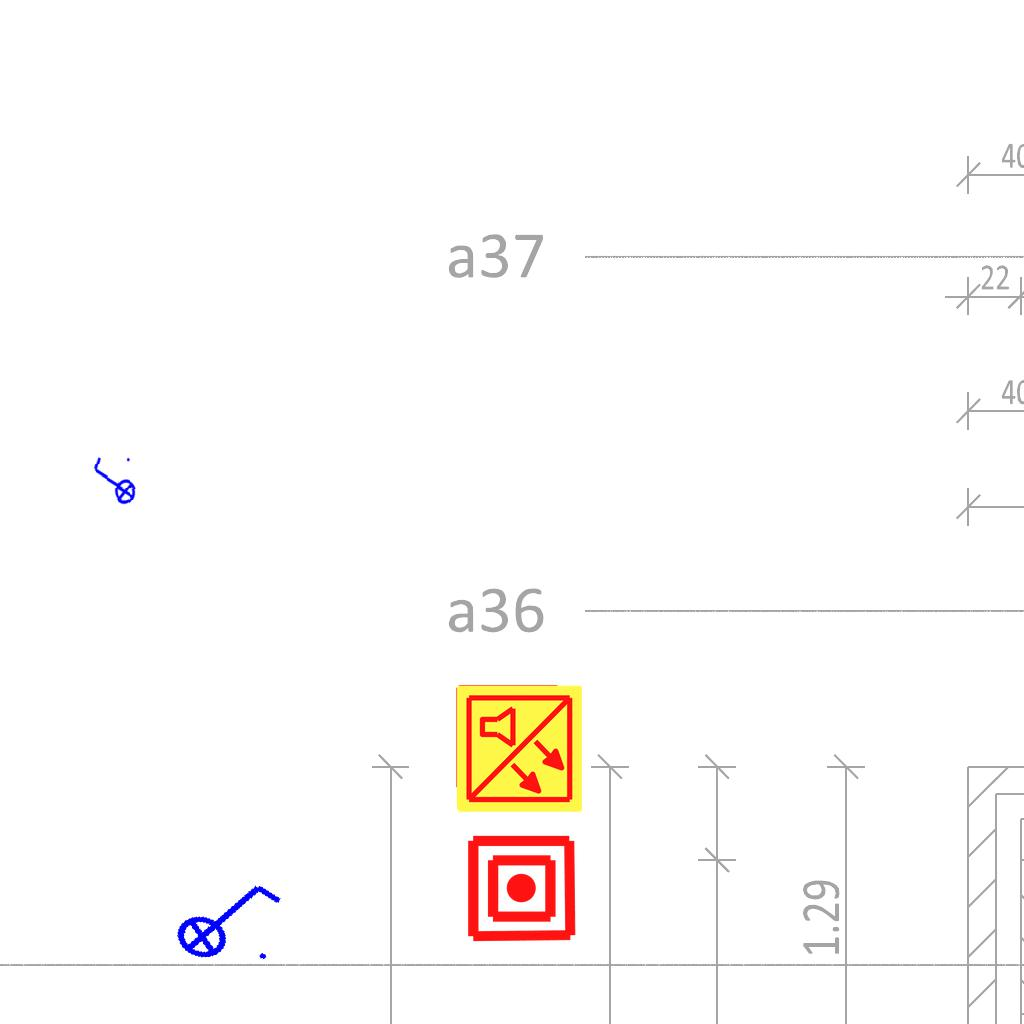Ausschalter_beleuchtet: (158, 854, 294, 980), (86, 452, 140, 512)
NAM-Nichtautomatischer_Melder: (465, 832, 578, 945)
OKW_Multisensormelder_(Kombination_optischer_Rauch-Kahlenmonoxid_Waerme-Melder): (453, 683, 585, 815)
